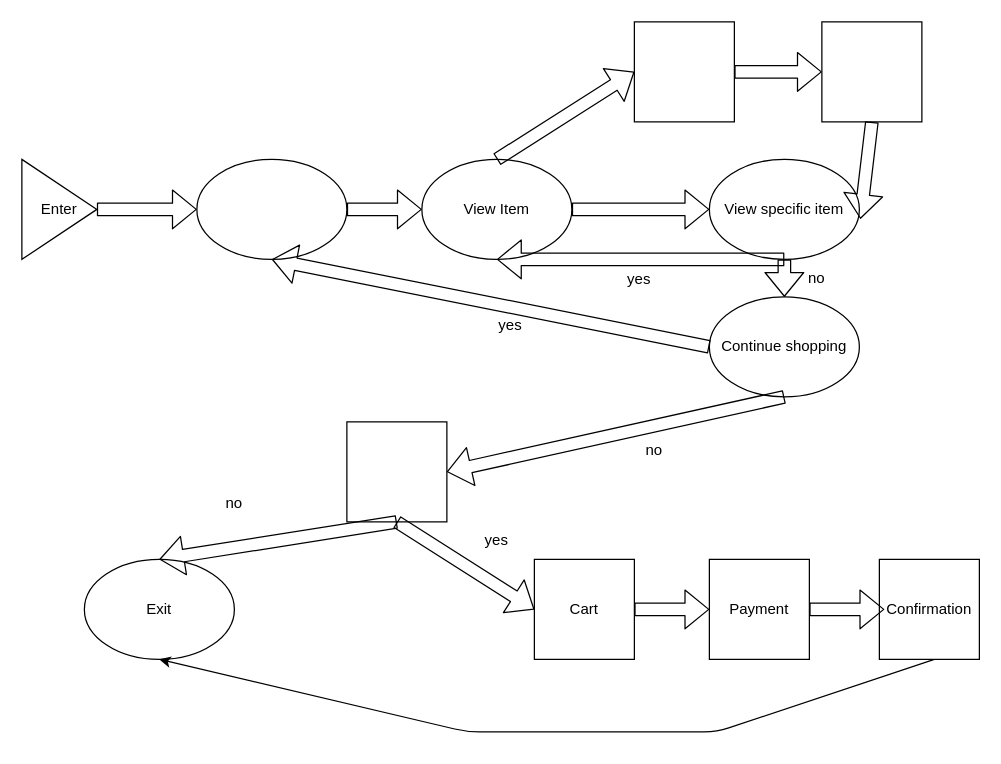
Image size: 1001x764. Some labels were removed from this diagram. Each missing label, with the centre of its shape:
"Add cart" belongs at (683,71).
"Cart Confirmation" belongs at (871,71).
"Check out" belongs at (396,471).
"Search Explore" belongs at (271,208).
